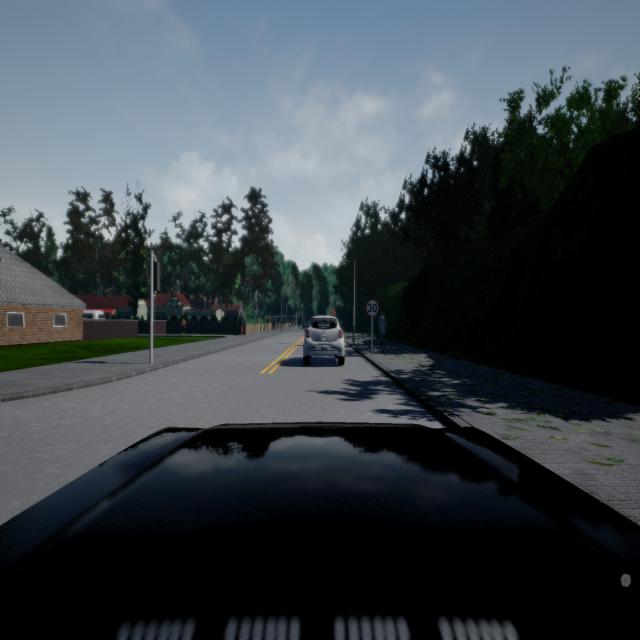Speed Limit -30-: (366, 299, 379, 317)
